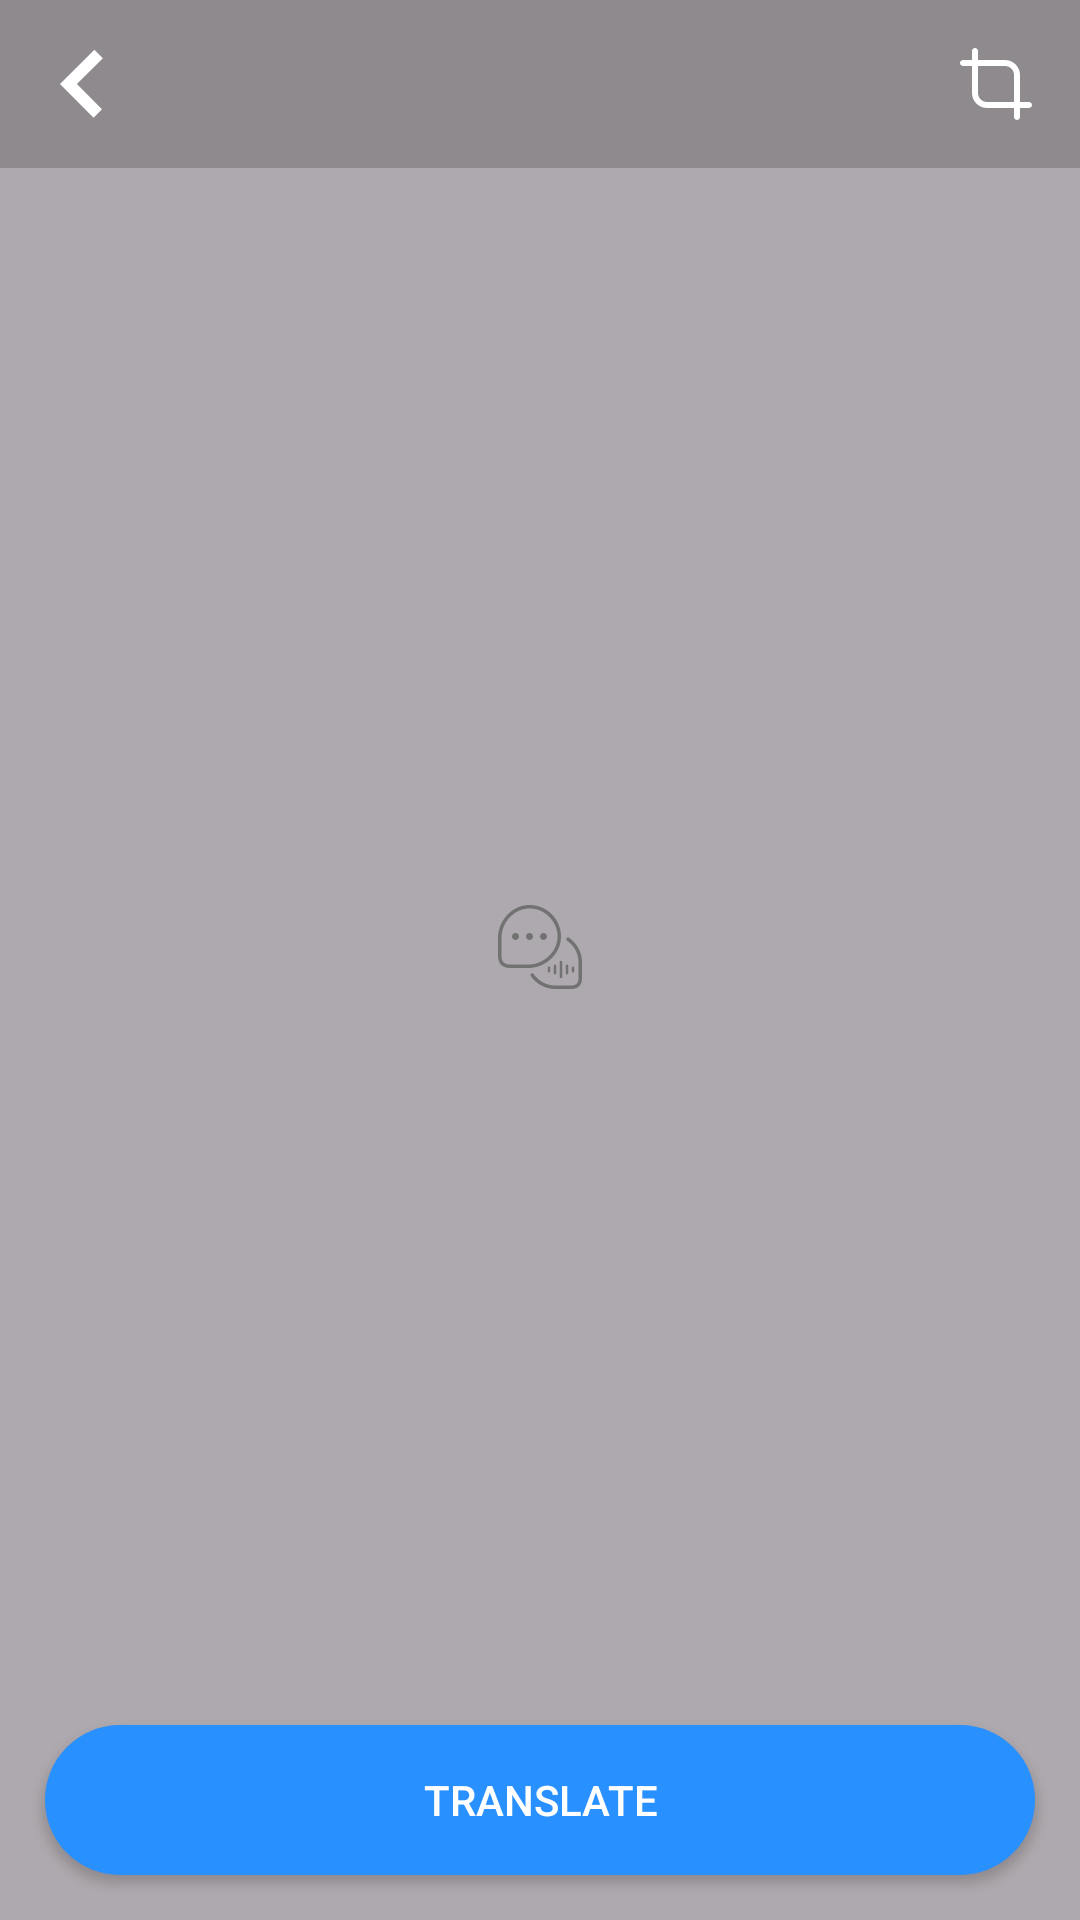

Screen size 1080px x 1920px. Icon name, then its center in pixels as point (x, y):
Back Icon: point (81, 84)
chat: point (540, 947)
